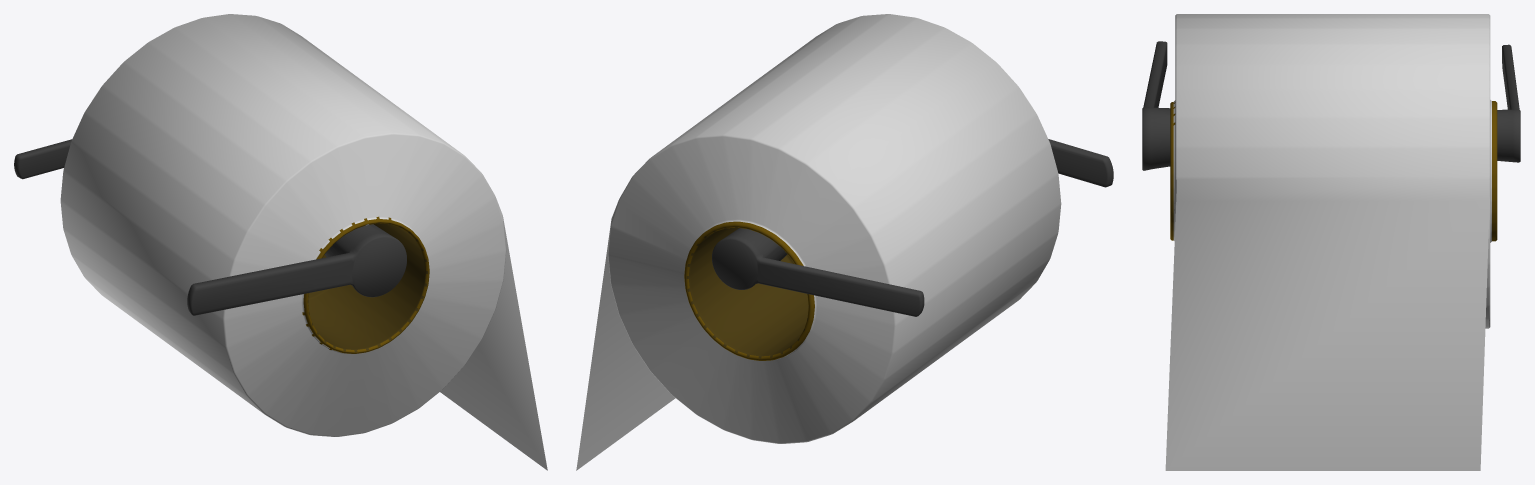
The model's file is toiletteRoll.fbx.
3 renders of one model, left to right at view 1: azimuth 30°, elevation 25°; view 2: azimuth 150°, elevation 25°; view 3: azimuth 270°, elevation 25°, orthographic. The views are drawn at different scales.
Parts seen in each view (by area): view 1: Cylinder; view 2: Cylinder; view 3: Cylinder.
Boxes of the visible parts, x1,y1,x2,y2 form: Cylinder: (14,14,547,470); Cylinder: (576,14,1113,470); Cylinder: (1142,14,1520,470).
Size of the model in its own units: 255 by 252 by 240.
